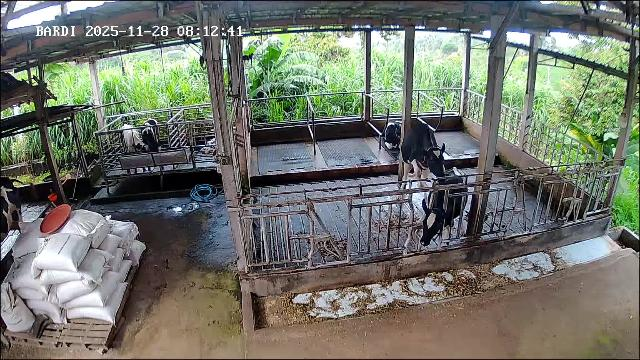mounting: (395, 118, 453, 200)
